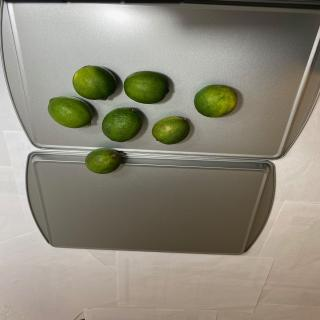Lemon: (72, 65, 117, 101), (193, 84, 238, 118), (47, 95, 93, 128), (124, 71, 170, 104), (101, 108, 142, 142), (152, 116, 190, 145)
